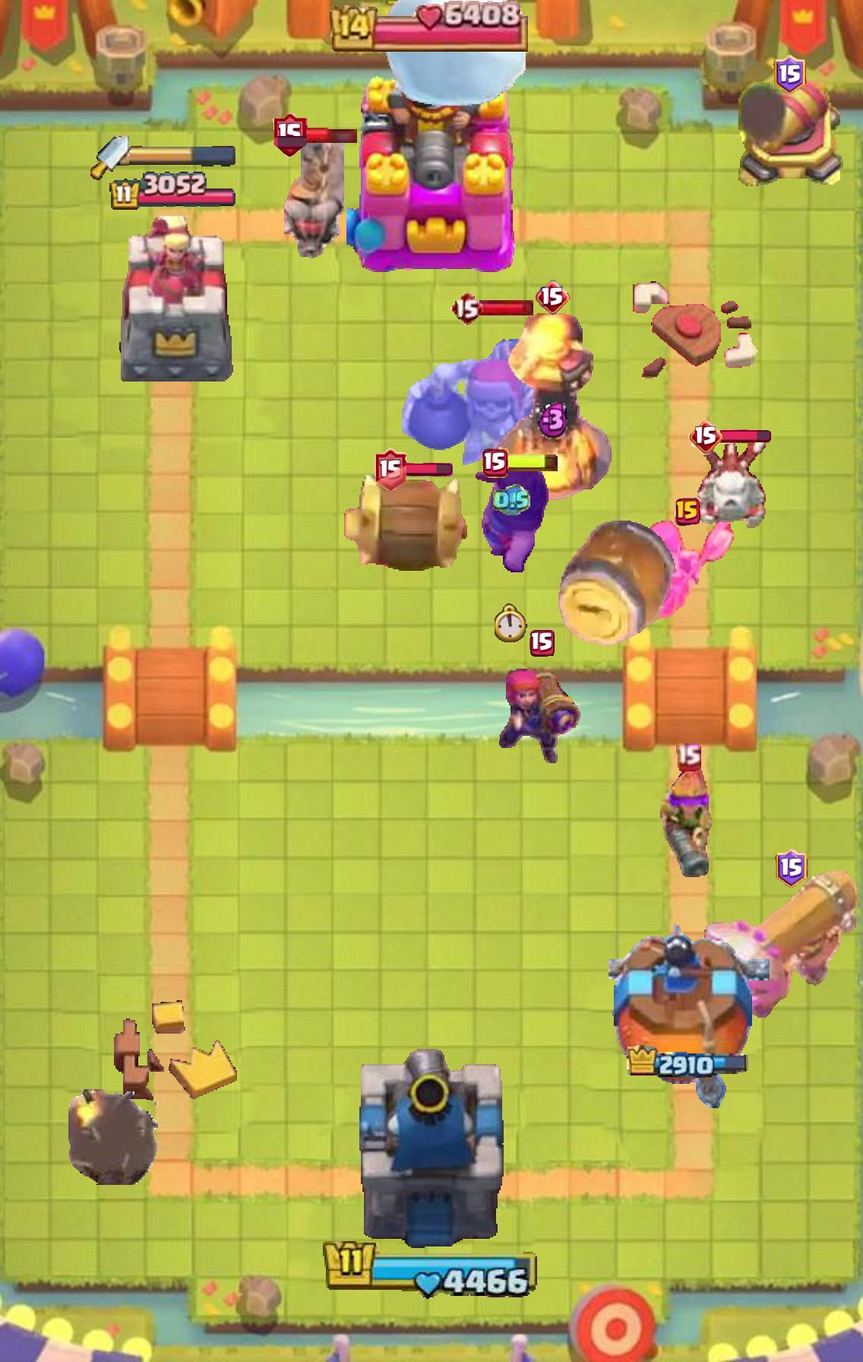elixir: (537, 400, 569, 439), (493, 484, 531, 516)
